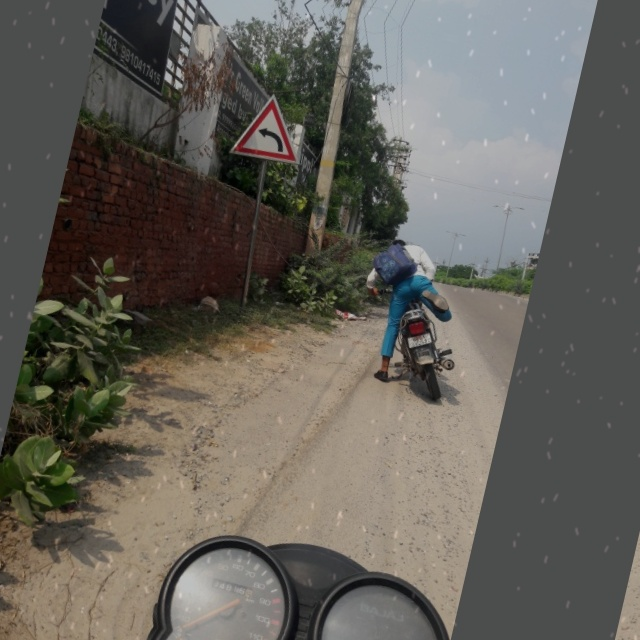Left_Hand_Curve: (224, 87, 314, 174)
